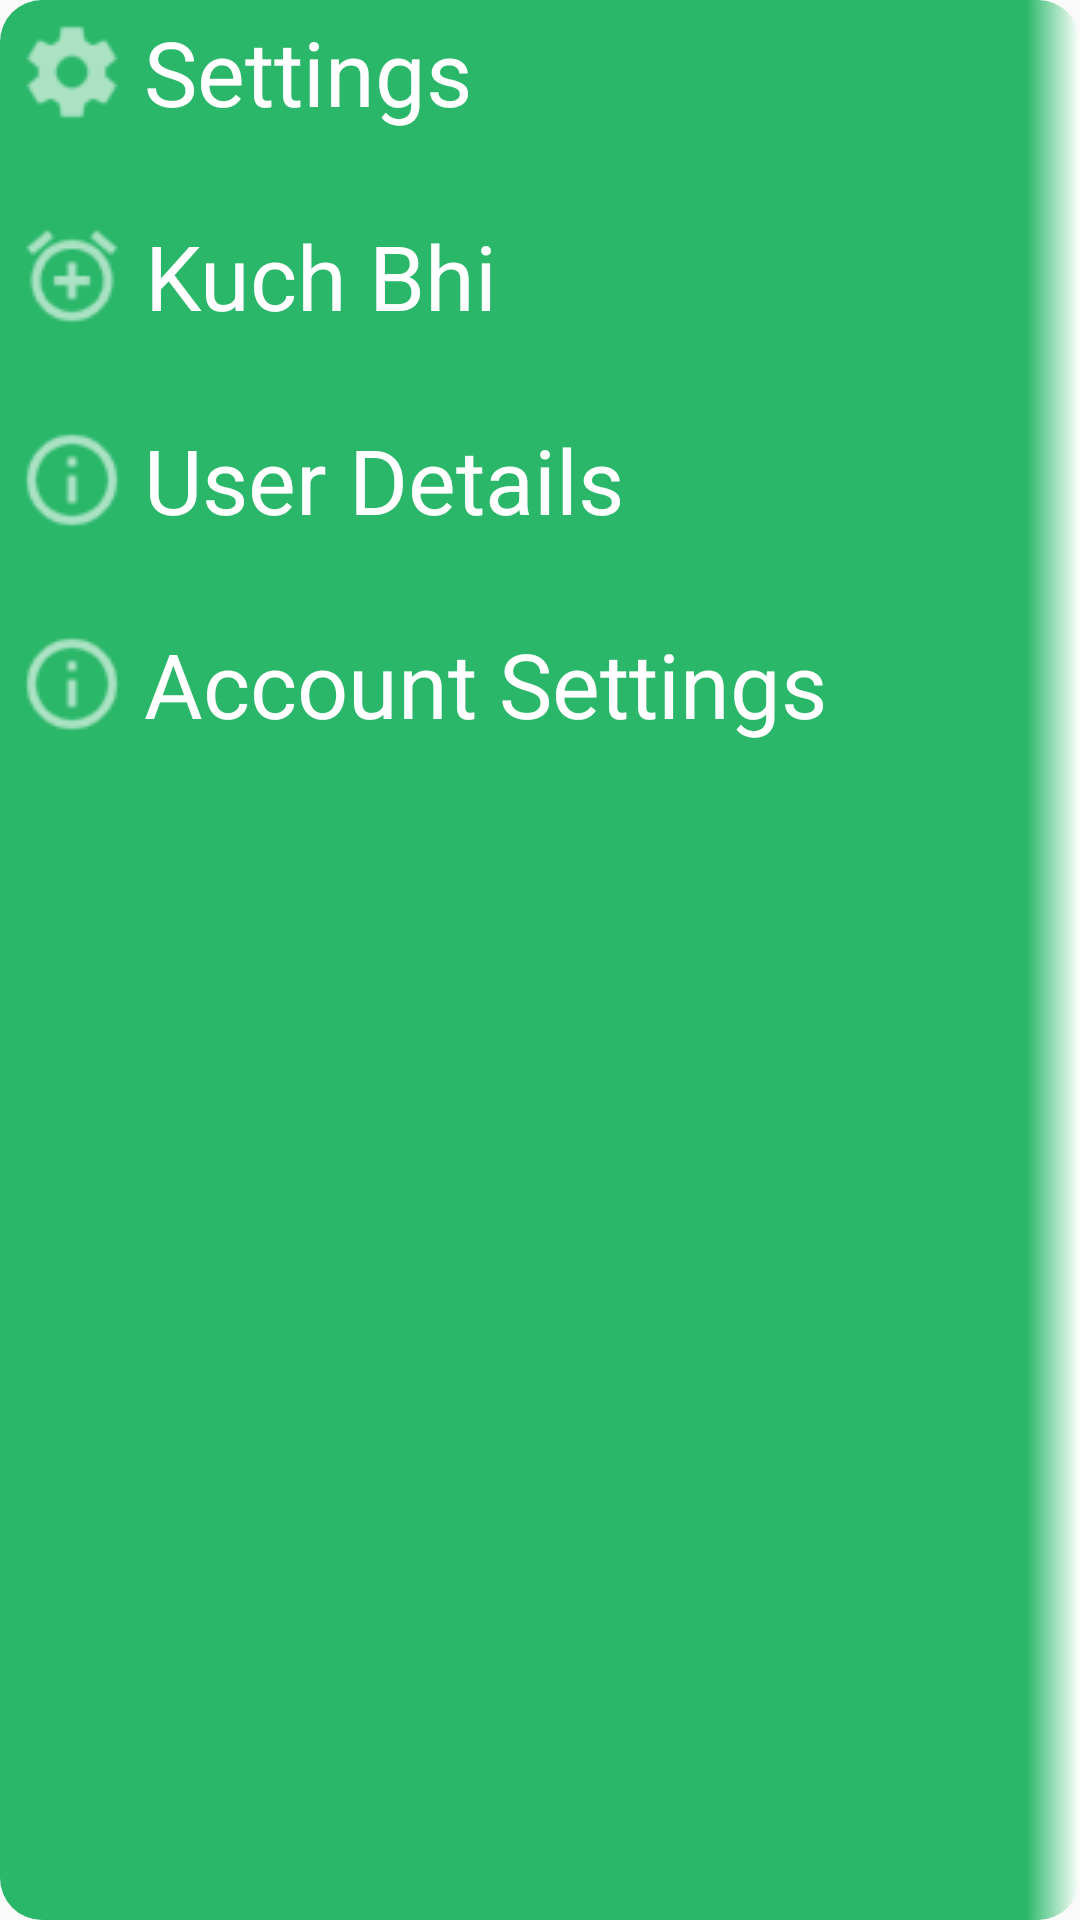

Locate icon controls on the screen. Image size 1080x1920, boxes as (x1, y1, x2, y2).
about: (26, 434, 118, 526), (26, 638, 118, 730)
edit reminder: (26, 230, 118, 322)
